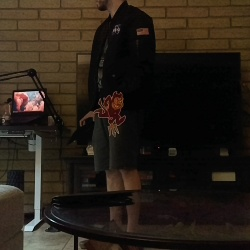sparky: (93, 90, 126, 137)
